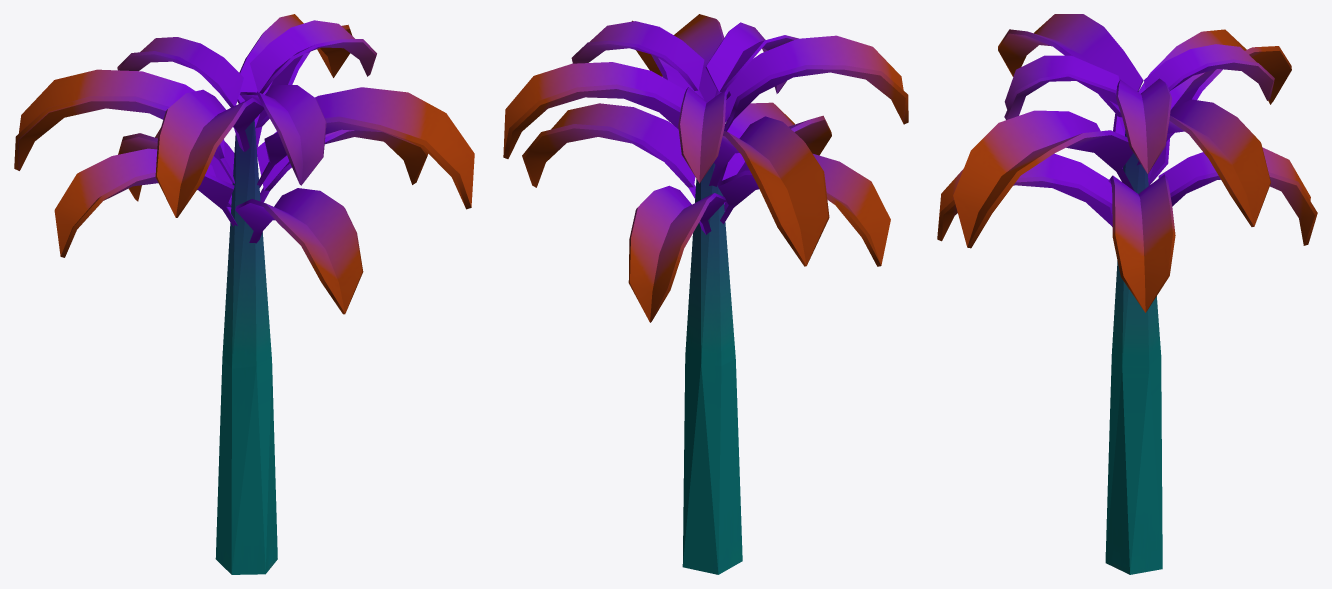
The model's file is palm_ver2.fbx.
3 renders of one model, left to right at view 1: azimuth 30°, elevation 25°; view 2: azimuth 150°, elevation 25°; view 3: azimuth 270°, elevation 25°, orthographic.
Parts seen in each view (by area): view 1: palm_ver2; view 2: palm_ver2; view 3: palm_ver2.
Boxes of the visible parts, x1,y1,x2,y2 form: palm_ver2: (14,14,474,574); palm_ver2: (503,14,908,574); palm_ver2: (937,14,1317,574).
Bounding box in the file's own units: 223 × 309 × 210.
